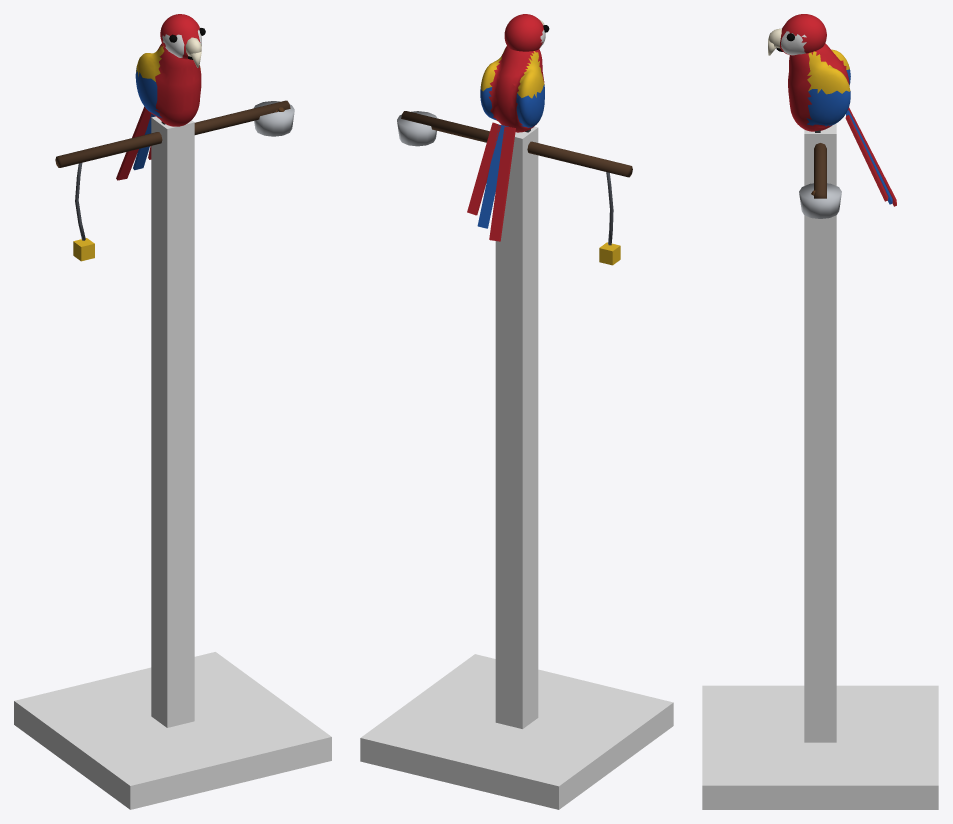
The model's file is Pet_Parrot_Perch.gltf.
The picture shows the model from 3 angles, left to right: view 1: azimuth 30°, elevation 25°; view 2: azimuth 150°, elevation 25°; view 3: azimuth 270°, elevation 25°; orthographic projection. The views are drawn at different scales.
Parts seen in each view (by area): view 1: Pet_Parrot_Perch_COL, Pet_Parrot_Perch_COL1, Parrot_Body, Pet_Parrot_Perch, Parrot_Head; view 2: Pet_Parrot_Perch_COL, Pet_Parrot_Perch_COL1, Parrot_Body, Pet_Parrot_Perch, Parrot_Head; view 3: Pet_Parrot_Perch_COL, Pet_Parrot_Perch_COL1, Parrot_Body, Parrot_Head, Pet_Parrot_Perch.
Boxes of the visible parts, left/top/right/bottom form: Pet_Parrot_Perch_COL: left=14, top=652, right=331, bottom=809; Pet_Parrot_Perch_COL1: left=151, top=116, right=194, bottom=727; Parrot_Body: left=116, top=43, right=201, bottom=180; Pet_Parrot_Perch: left=55, top=100, right=294, bottom=261; Parrot_Head: left=160, top=14, right=205, bottom=67; Pet_Parrot_Perch_COL: left=360, top=654, right=673, bottom=809; Pet_Parrot_Perch_COL1: left=495, top=126, right=538, bottom=728; Parrot_Body: left=467, top=46, right=544, bottom=241; Pet_Parrot_Perch: left=397, top=111, right=632, bottom=265; Parrot_Head: left=504, top=14, right=549, bottom=51; Pet_Parrot_Perch_COL: left=702, top=685, right=938, bottom=809; Pet_Parrot_Perch_COL1: left=804, top=123, right=836, bottom=742; Parrot_Body: left=788, top=43, right=896, bottom=206; Parrot_Head: left=768, top=14, right=826, bottom=55; Pet_Parrot_Perch: left=799, top=143, right=841, bottom=218.
Size of the model in its own units: 0.51 by 1.53 by 0.44.
